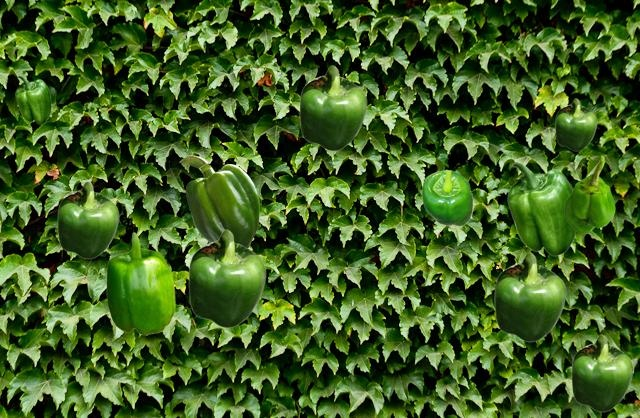bell_pepper: (188, 229, 265, 327), (179, 155, 258, 247), (106, 232, 174, 334), (507, 161, 576, 255), (494, 252, 565, 341), (299, 65, 366, 150), (57, 181, 118, 258), (571, 334, 632, 411), (564, 155, 614, 232), (421, 169, 472, 225), (555, 98, 596, 150), (15, 75, 50, 123)
